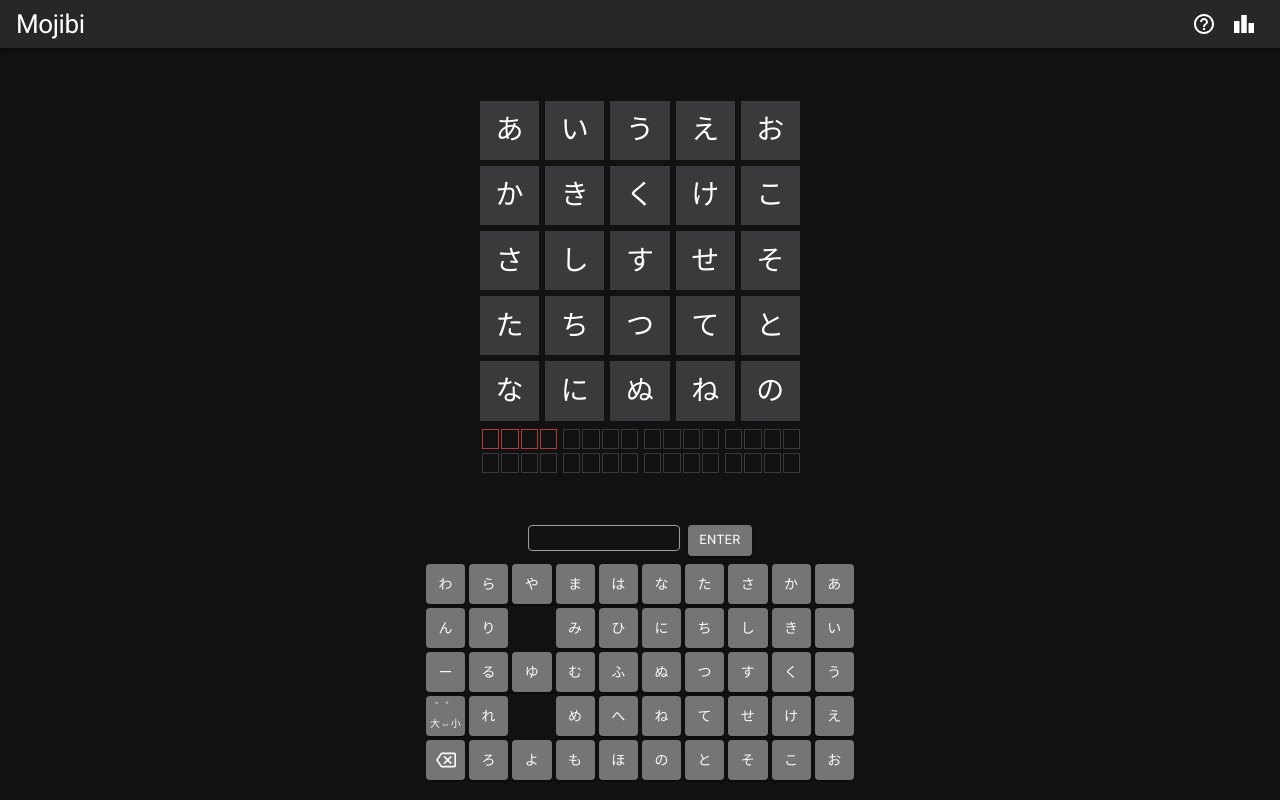
App component › Game › Keyboard › On-Screen Keyboard › When you click あ › should render あ in input box
The width and height of the screenshot is (1280, 800).
Click the button "あ" at (834, 584), box [815,564,854,604]
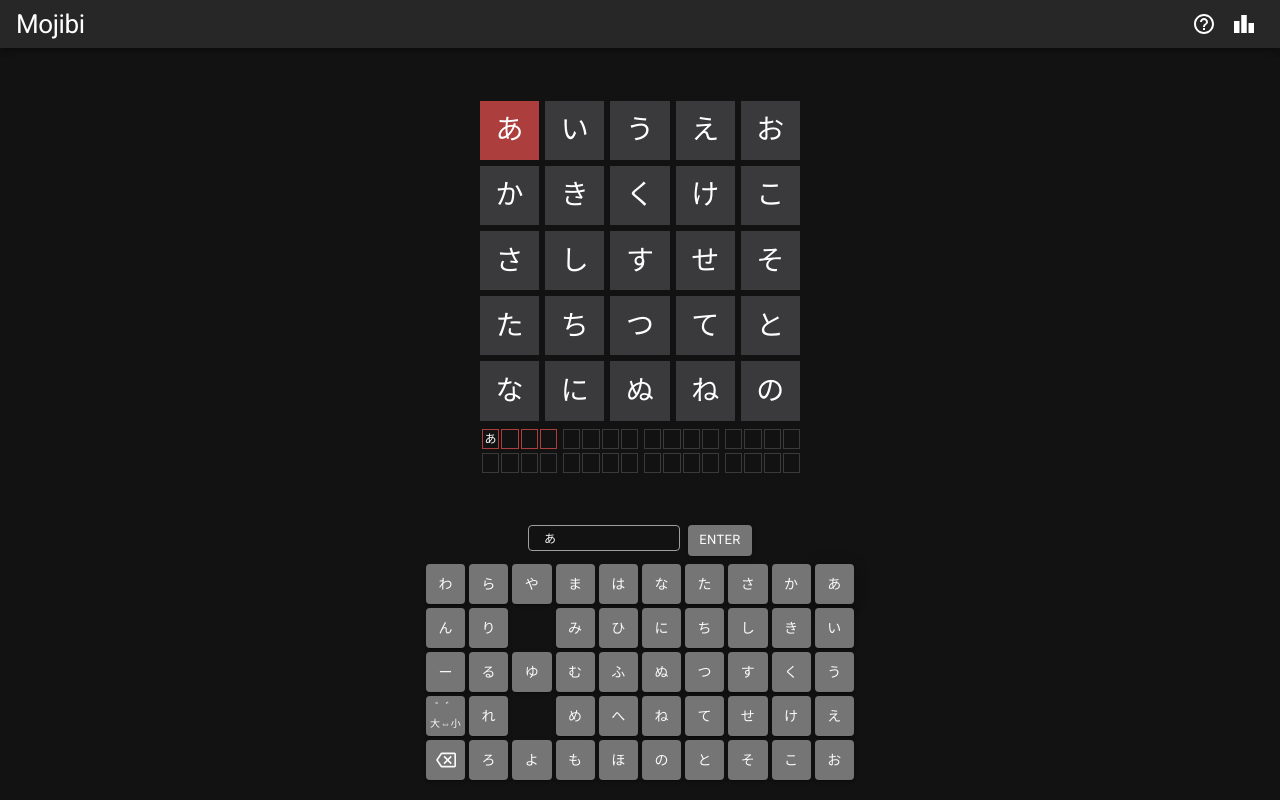
Expected: the field with test id "key-input" holds "あ", [528,525,680,551]
